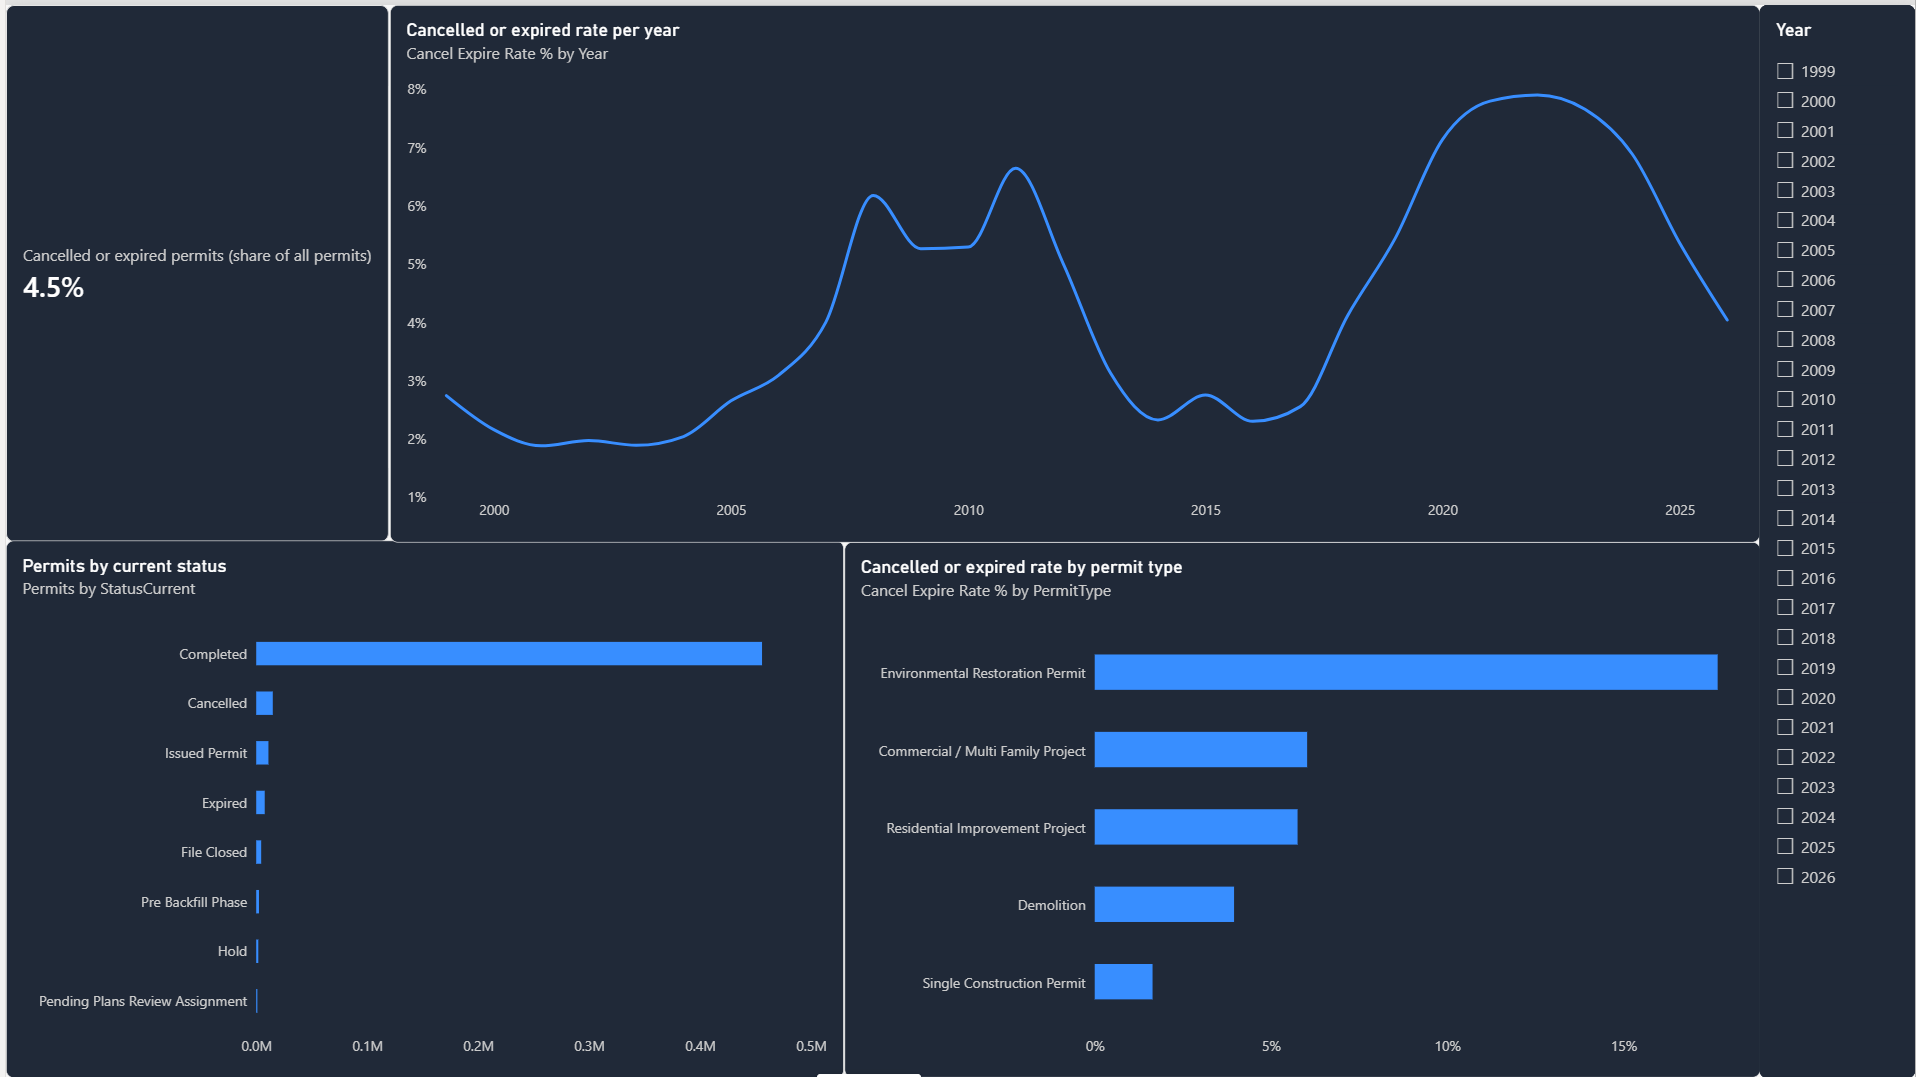

Layout of this report page (visuals, bound fields, positions):
{"tool":"powerbi","page":{"name":"Outcomes","canvas":[1920,1080],"ordinal":4},"visuals":[{"type":"listSlicer","fields":{"Values":["Calendar.Year"]},"box":[1763.6,0,156.4,1079.4],"z":0},{"type":"cardVisual","title":"Cancelled or expired permits (share of all permits","fields":{"Data":["Permits.Cancel Expire Rate %"]},"box":[0,0,385.9,540.5],"z":1000},{"type":"clusteredBarChart","title":"Permits by current status","fields":{"Category":["Permits.StatusCurrent"],"Y":["Permits.Permits"]},"box":[0,538.8,843,540.5],"z":2000},{"type":"clusteredBarChart","title":"Cancelled or expired rate by permit type","fields":{"Category":["Permits.PermitType"],"Y":["Permits.Cancel Expire Rate %"]},"box":[841.8,538.6,921.2,538.8],"z":3000},{"type":"lineChart","title":"Cancelled or expired rate per year","fields":{"Category":["Calendar.Year"],"Y":["Permits.Cancel Expire Rate %"]},"box":[385.9,0,1378.3,540.5],"z":4000},{"type":"listSlicer","fields":{"Values":["Calendar.Year"]},"box":[1763.6,0.6,156.4,1079.4],"z":5000},{"type":"listSlicer","fields":{"Values":["Calendar.Year"]},"box":[1763.6,0.6,156.4,1079.4],"z":5001}]}

Visuals, with their boxes in screenshot pixels (x1, y1, x2, y2), scaled from the page's 1920x1080 canvas onto the 1921x1077 screenshot:
listSlicer - Calendar.Year: Rect(1765, 0, 1920, 1076)
"Cancelled or expired permits (share of all permits" cardVisual: Rect(0, 0, 386, 539)
"Permits by current status" clusteredBarChart: Rect(0, 537, 843, 1076)
"Cancelled or expired rate by permit type" clusteredBarChart: Rect(842, 537, 1764, 1074)
"Cancelled or expired rate per year" lineChart: Rect(386, 0, 1765, 539)
listSlicer - Calendar.Year: Rect(1765, 1, 1920, 1076)
listSlicer - Calendar.Year: Rect(1765, 1, 1920, 1076)
